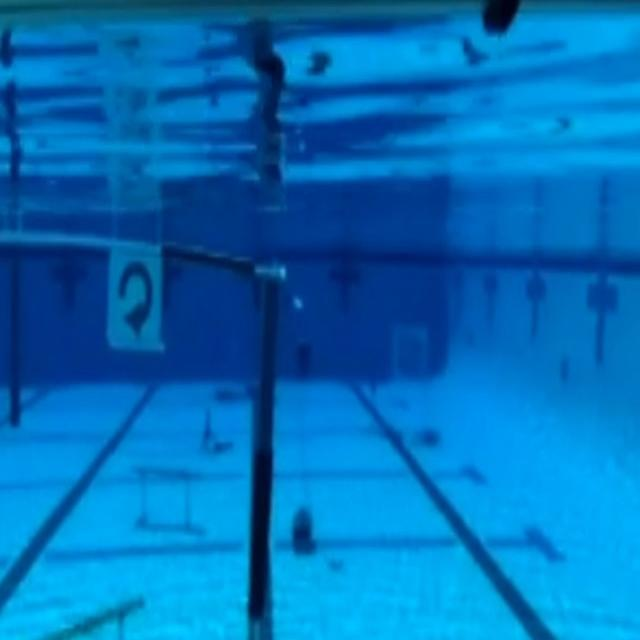Gate: (6, 214, 280, 617)
